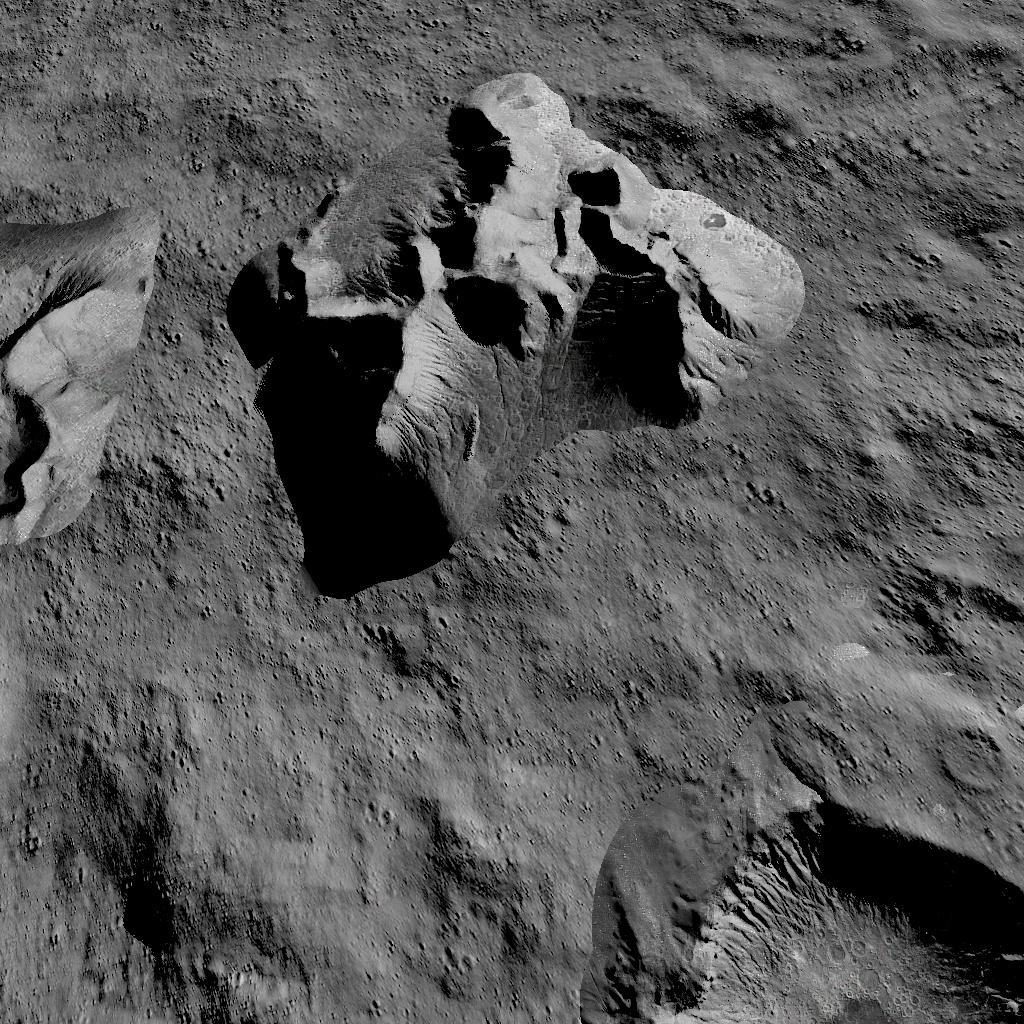Boulders: (218, 58, 808, 588), (0, 188, 164, 562)
Crater: (587, 760, 1024, 1024), (887, 538, 1024, 708), (106, 854, 194, 956)
Plan surface: (222, 610, 572, 1024), (829, 6, 1024, 508), (4, 578, 204, 828), (591, 598, 870, 752), (5, 0, 198, 170)
